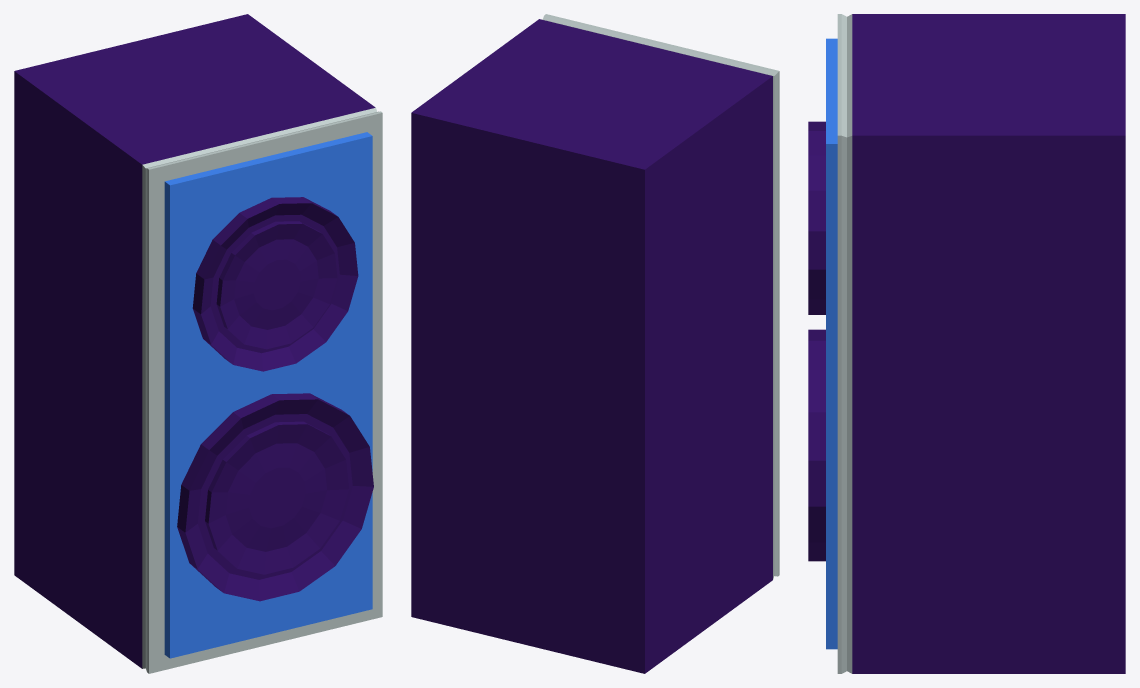
The model's file is Altavoz.fbx.
3 views of the same model, side by side, from view 1: azimuth 30°, elevation 25°; view 2: azimuth 150°, elevation 25°; view 3: azimuth 270°, elevation 25° (orthographic). The views are drawn at different scales.
Parts seen in each view (by area): view 1: Cube, Cylinder, Cylinder.001; view 2: Cube; view 3: Cube, Cylinder, Cylinder.001.
Part boxes in pixels (bbox=[...]): Cube: bbox=[14, 14, 382, 673]; Cylinder: bbox=[177, 393, 373, 601]; Cylinder.001: bbox=[192, 197, 358, 371]; Cube: bbox=[411, 14, 779, 673]; Cube: bbox=[826, 14, 1125, 673]; Cylinder: bbox=[808, 329, 825, 561]; Cylinder.001: bbox=[808, 121, 825, 314].
Bounding box in the file's own units: 200 × 412 × 220.
